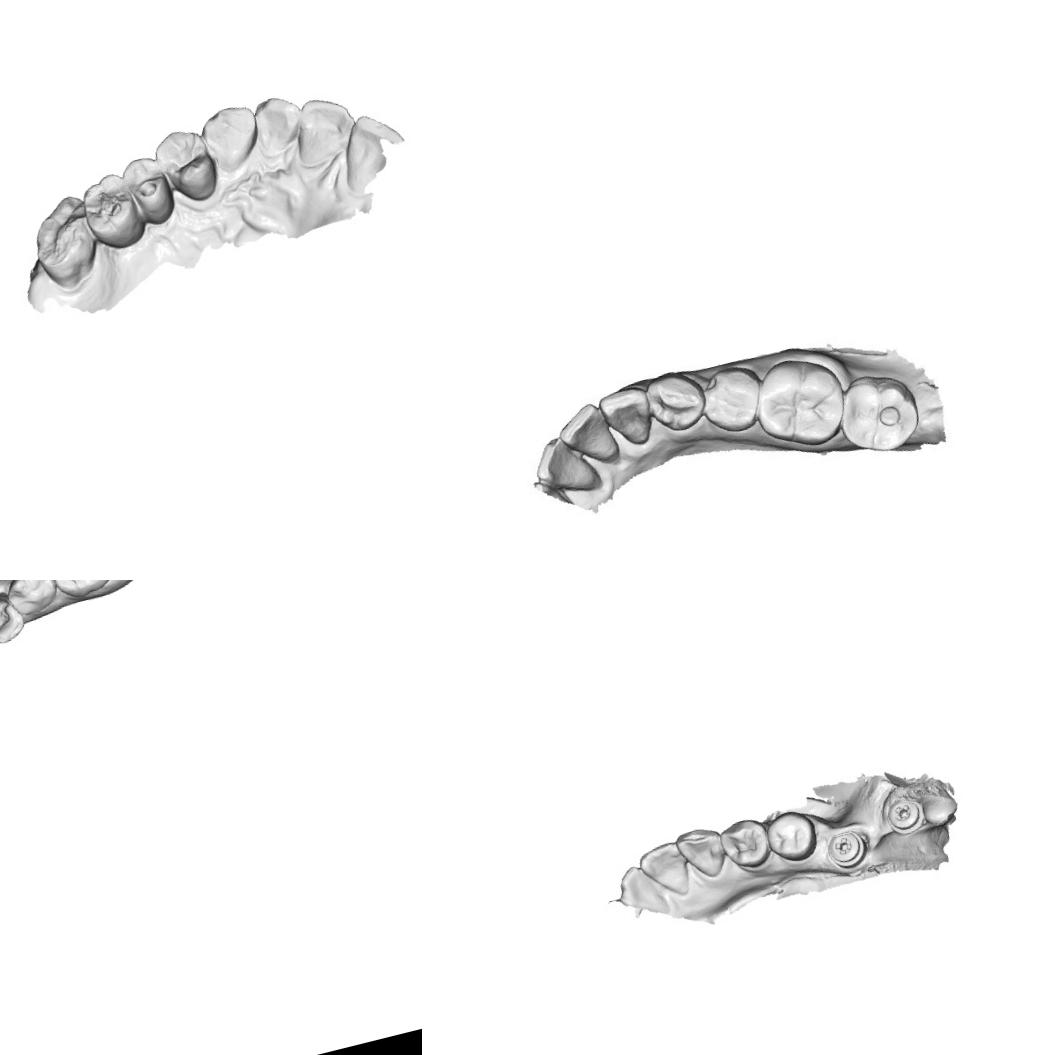canine: (196, 99, 266, 178), (598, 380, 661, 452), (672, 821, 732, 885)
implant_plus: (820, 824, 873, 875), (880, 791, 929, 838)
incisor: (329, 105, 412, 192), (282, 88, 366, 172), (556, 398, 624, 475), (532, 430, 605, 500), (609, 856, 676, 926), (248, 89, 312, 160), (634, 837, 694, 904)
molar: (747, 350, 848, 455), (22, 190, 105, 295), (836, 368, 922, 455), (75, 168, 148, 256), (43, 580, 123, 602)
premolar: (148, 122, 222, 210), (117, 150, 180, 231), (700, 361, 766, 438), (644, 363, 708, 435), (759, 804, 822, 869), (715, 812, 775, 874), (0, 580, 61, 620), (0, 586, 29, 649)
